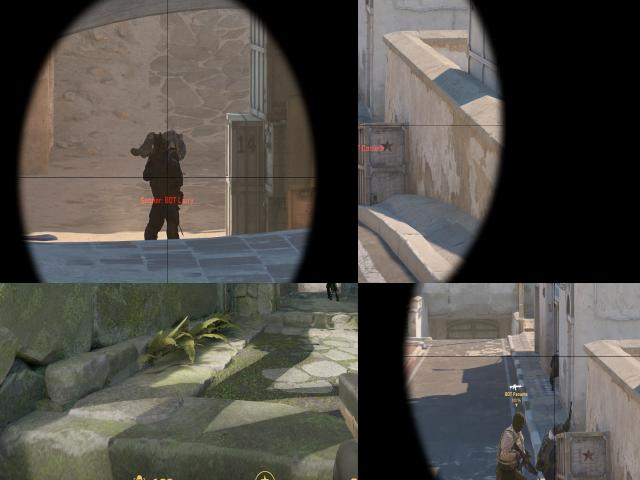CT: (145, 131, 180, 239), (537, 424, 556, 480), (548, 349, 558, 390)
CT-Head: (150, 134, 169, 161), (552, 423, 563, 433), (555, 350, 559, 357)
Dead: (134, 131, 186, 156)
T: (493, 410, 535, 480), (324, 283, 339, 306)
T-Head: (512, 413, 524, 430)
